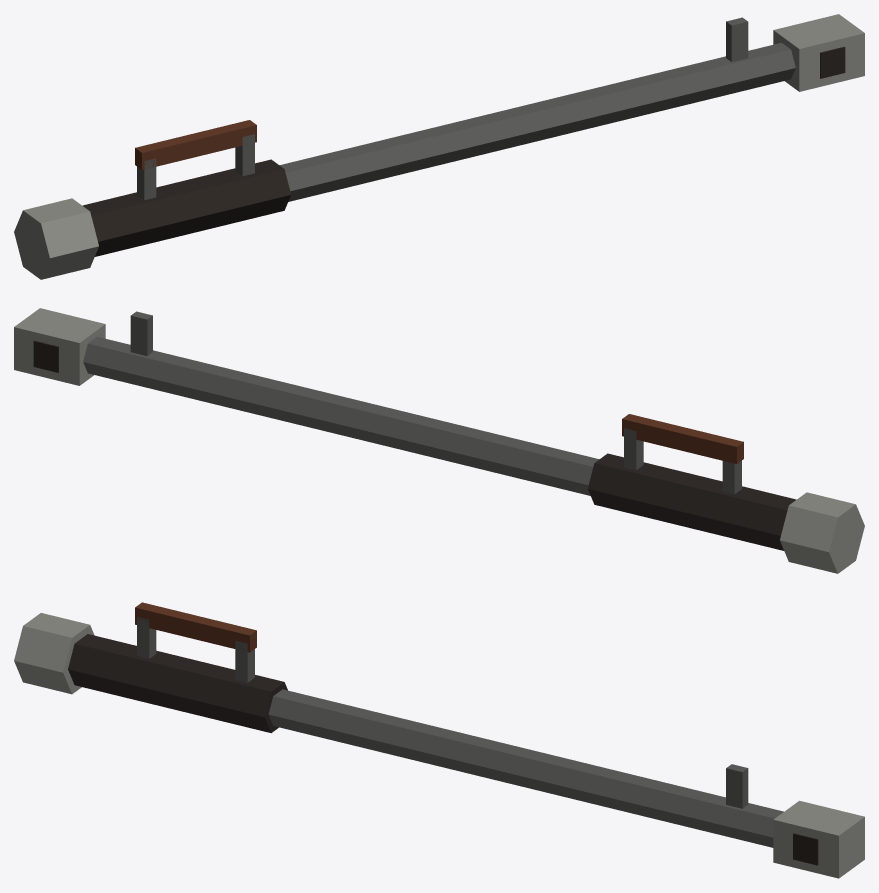
Rendered from wbar_mg_long.glb.
3 renders of one model, top to bottom at view 1: azimuth 30°, elevation 25°; view 2: azimuth 150°, elevation 25°; view 3: azimuth 330°, elevation 25°, orthographic.
Visible parts, largest first — view 1: wbar_mg_long; view 2: wbar_mg_long; view 3: wbar_mg_long.
Part boxes in pixels (bbox=[...]): wbar_mg_long: bbox=[14, 14, 864, 279]; wbar_mg_long: bbox=[14, 308, 864, 573]; wbar_mg_long: bbox=[14, 602, 864, 878].
Size of the model in its own units: 1 by 0.1129 by 0.076.
